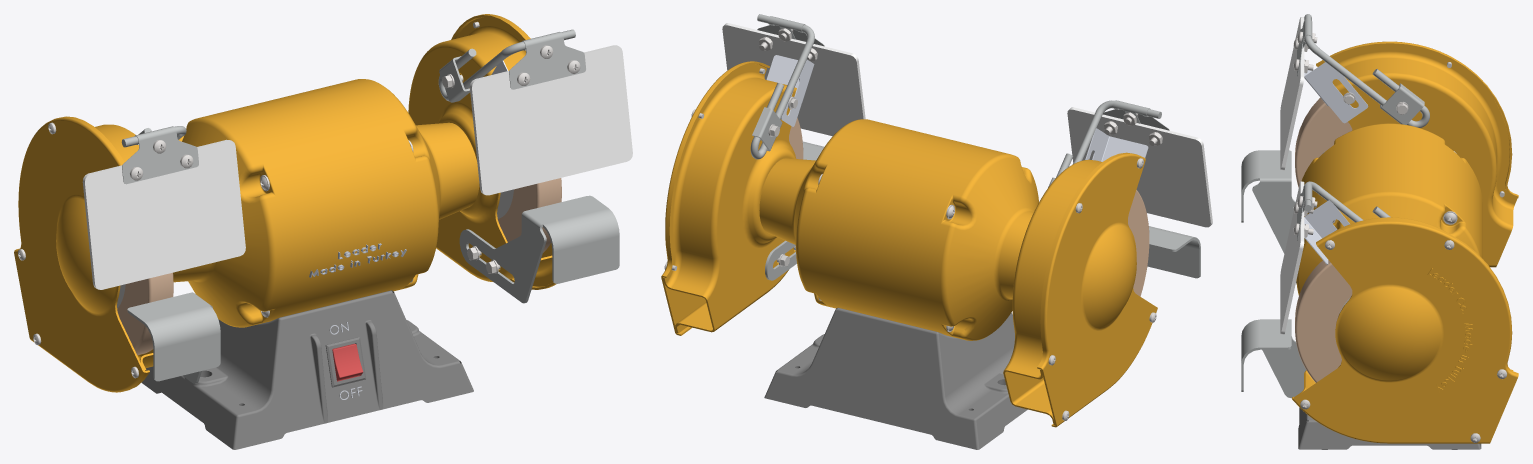
File: grinder.gltf
3 views of the same model, side by side, from view 1: azimuth 30°, elevation 25°; view 2: azimuth 150°, elevation 25°; view 3: azimuth 270°, elevation 25° (orthographic). The views are drawn at different scales.
Parts seen in each view (by area): view 1: Оболочка (×19); view 2: Оболочка (×20); view 3: Оболочка (×21).
Part boxes in pixels (x1,y1,x2,y2): Оболочка (×19): (14, 14, 632, 449); Оболочка (×20): (661, 14, 1212, 449); Оболочка (×21): (1241, 14, 1518, 449).
Bounding box in the file's own units: 428 × 257 × 220.
